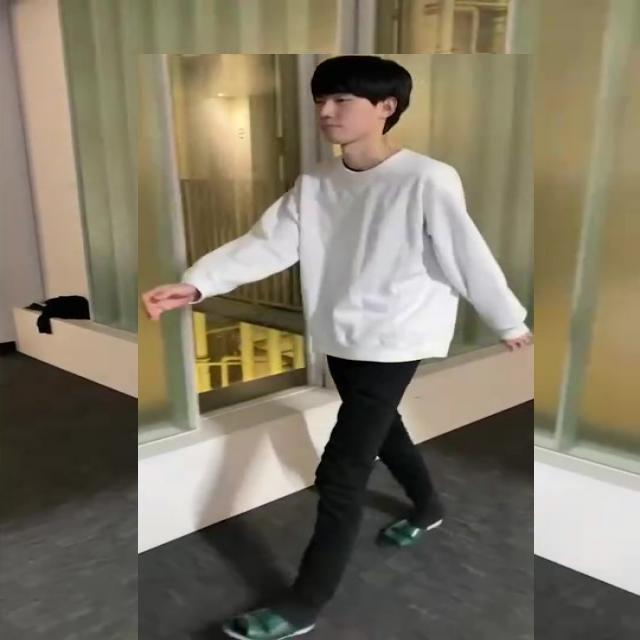direk: (138, 54, 534, 640)
